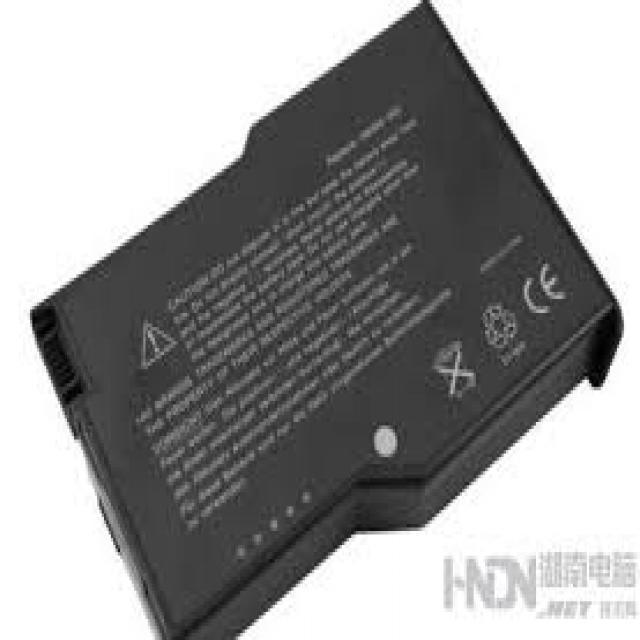battery: (31, 0, 625, 640)
